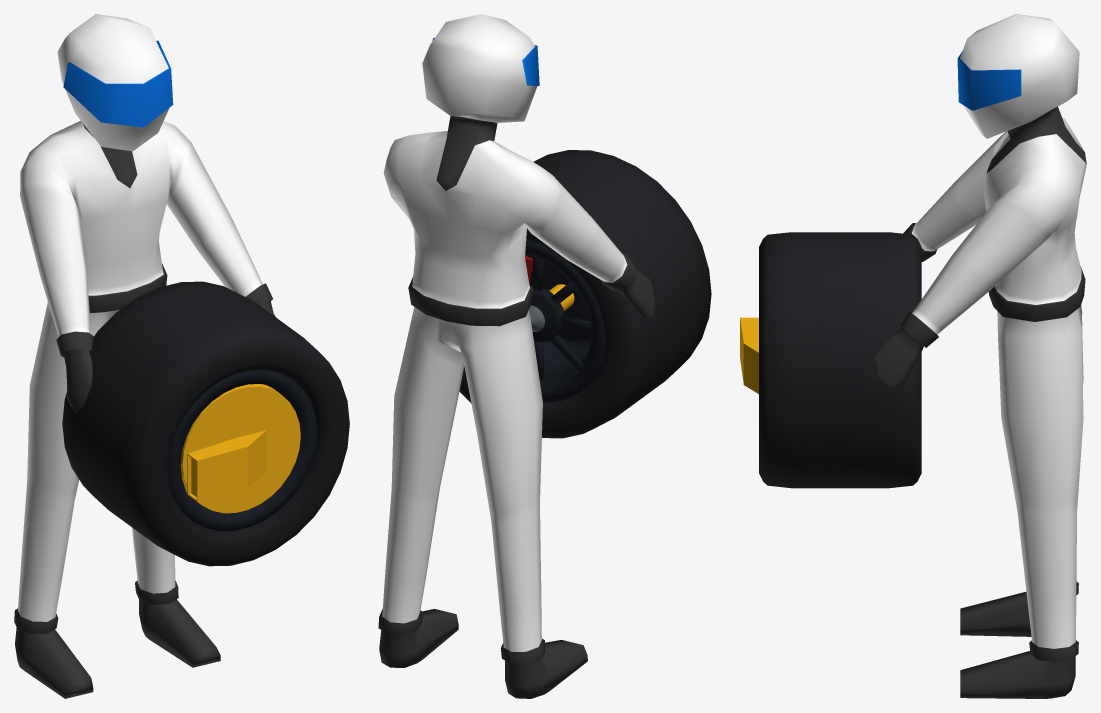
File: rear_right_wheel_carrier.glb
The picture shows the model from 3 angles, left to right: view 1: azimuth 30°, elevation 25°; view 2: azimuth 150°, elevation 25°; view 3: azimuth 270°, elevation 25°; orthographic projection.
Visible parts, largest first — view 1: PitCrewBody, GEO_WHEEL_REAR_R_TIRE, GEO_WHEEL_REAR_R_RIM_06, GEO_WHEEL_REAR_R_RIM_04; view 2: PitCrewBody, GEO_WHEEL_REAR_R_TIRE, GEO_WHEEL_REAR_R_RIM_04, GEO_WHEEL_REAR_R_RIM_03; view 3: PitCrewBody, GEO_WHEEL_REAR_R_TIRE, GEO_WHEEL_REAR_R_RIM_06.
Boxes of the visible parts, <box> form: PitCrewBody: <box>14,14,275,698</box>; GEO_WHEEL_REAR_R_TIRE: <box>62,281,349,566</box>; GEO_WHEEL_REAR_R_RIM_06: <box>180,384,300,513</box>; GEO_WHEEL_REAR_R_RIM_04: <box>168,370,317,530</box>; PitCrewBody: <box>378,14,655,698</box>; GEO_WHEEL_REAR_R_TIRE: <box>459,150,711,438</box>; GEO_WHEEL_REAR_R_RIM_04: <box>525,241,604,402</box>; GEO_WHEEL_REAR_R_RIM_03: <box>525,255,591,346</box>; PitCrewBody: <box>874,14,1086,698</box>; GEO_WHEEL_REAR_R_TIRE: <box>759,232,921,488</box>; GEO_WHEEL_REAR_R_RIM_06: <box>740,317,758,393</box>.
Size of the model in its own units: 0.66 by 1.84 by 0.8944.
Materials: 8 (1 with a texture image).
